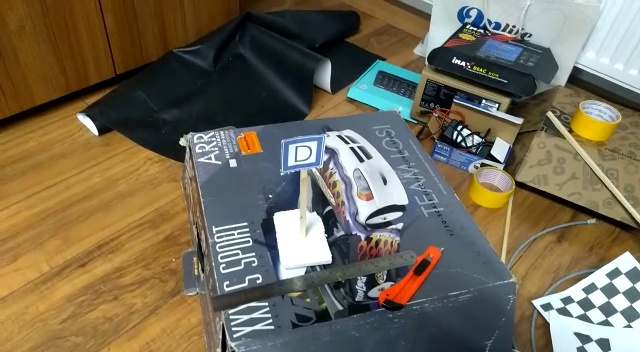durak: (278, 133, 327, 174)
